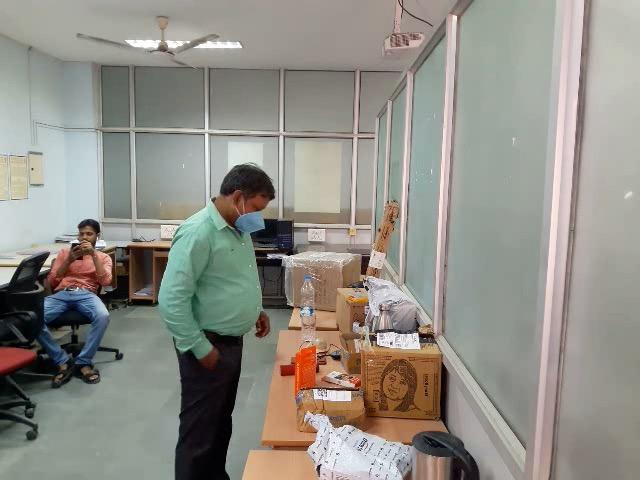Normal: (10, 14, 509, 480)
shoplifting: (125, 285, 294, 382)
